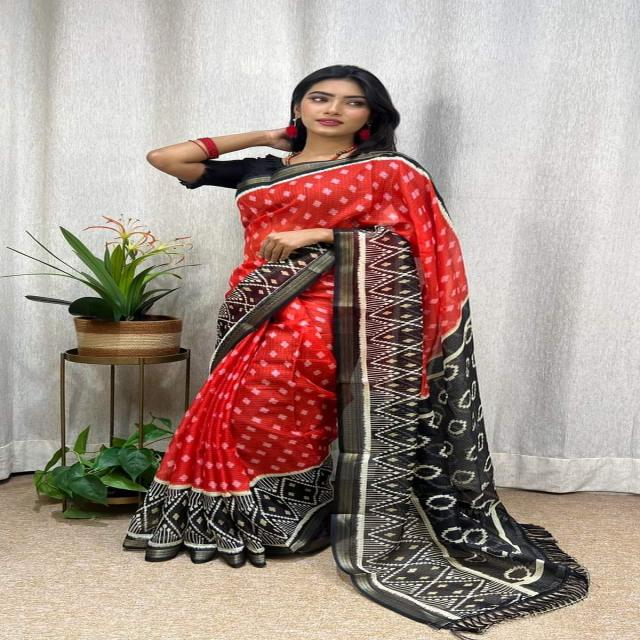female-dress: (176, 150, 543, 602)
